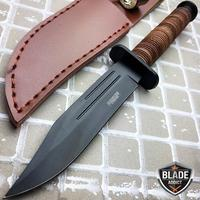knife: (1, 10, 196, 198)
